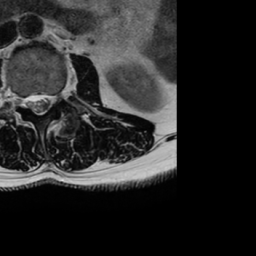CCS_normal: (34, 86, 43, 121)
LFS_normal: (52, 85, 63, 112)
LLS_normal: (43, 85, 52, 117)
RFS_normal: (16, 87, 25, 114)
RLS_normal: (25, 86, 34, 116)
